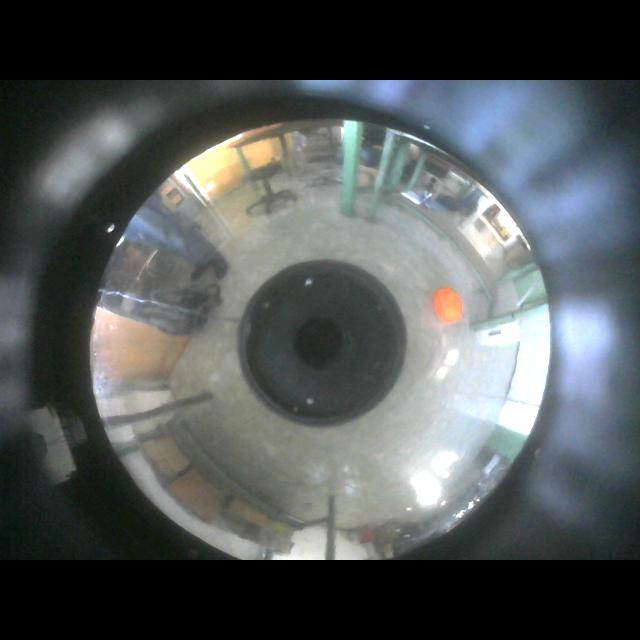bola: (432, 287, 464, 324)
